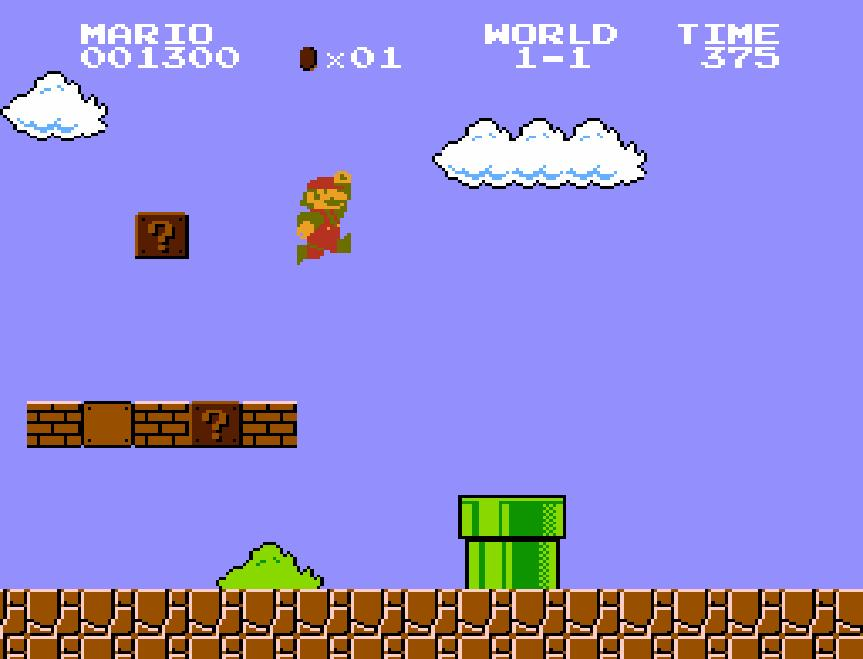big_mario: (294, 168, 352, 266)
